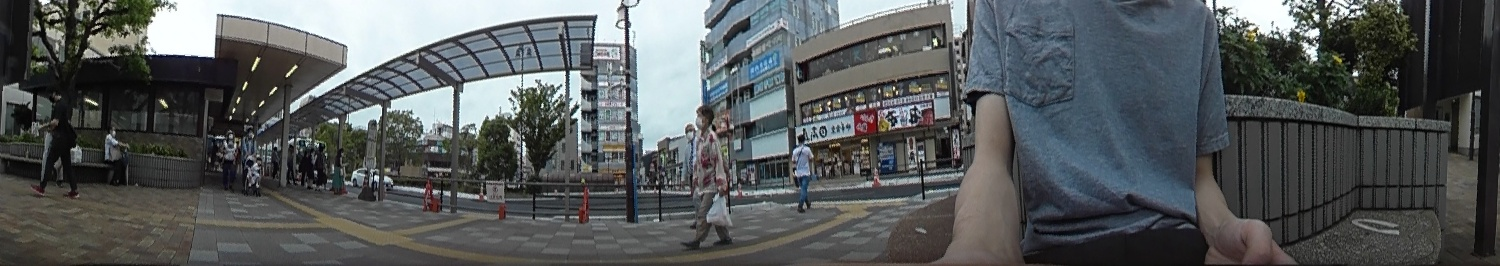difficult_person: (682, 123, 702, 212), (238, 126, 258, 190), (221, 129, 237, 187), (332, 145, 347, 194), (314, 144, 328, 188), (305, 147, 316, 186), (286, 145, 297, 181)
person: (688, 106, 734, 251), (43, 86, 79, 195), (103, 124, 134, 186), (790, 133, 814, 210)
